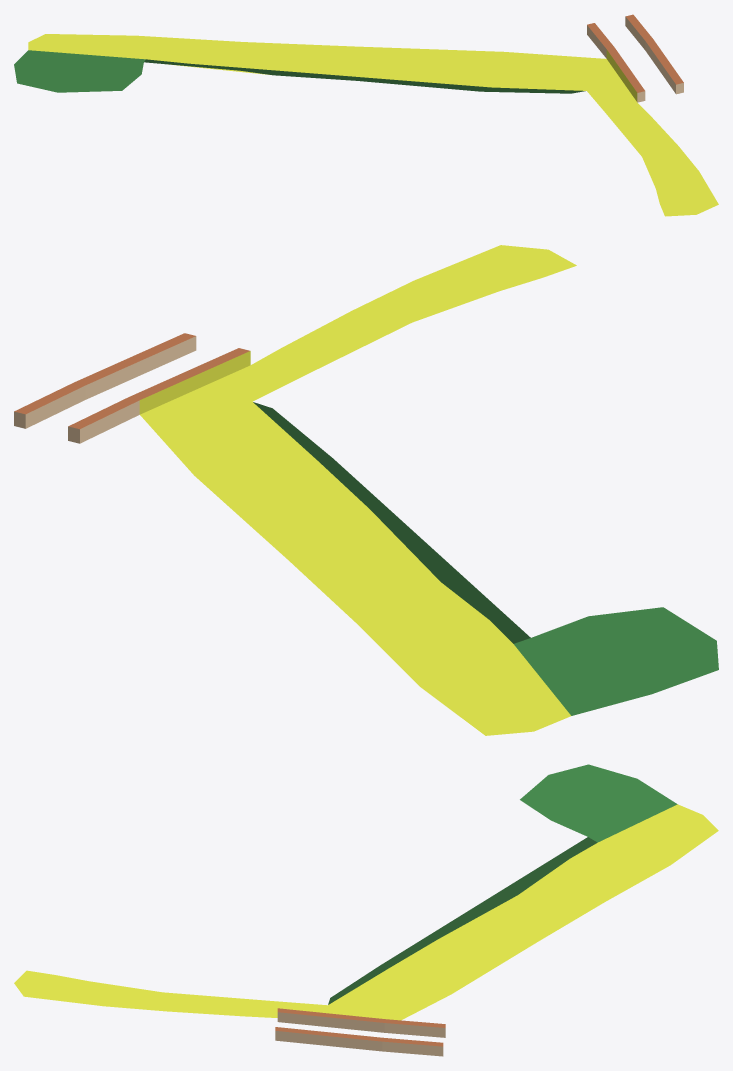
File: mainbeach9.glb
The picture shows the model from 3 angles, top to bottom: view 1: azimuth 30°, elevation 25°; view 2: azimuth 150°, elevation 25°; view 3: azimuth 270°, elevation 25°; orthographic projection. The views are drawn at different scales.
Parts seen in each view (by area): view 1: MainBeach; view 2: MainBeach; view 3: MainBeach.
Boxes of the visible parts, box(x1,y1,x2,y2) form: MainBeach: box(14, 14, 718, 216); MainBeach: box(14, 245, 718, 735); MainBeach: box(14, 764, 718, 1056).
Bounding box in the file's own units: 0.43 × 0.0161 × 0.4738.
